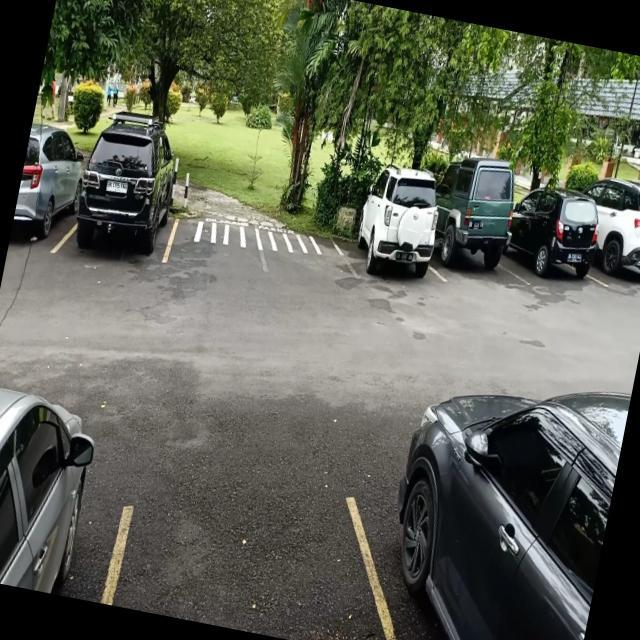occupied: (53, 124, 192, 276), (343, 176, 455, 292), (431, 173, 524, 294), (502, 198, 604, 298)
